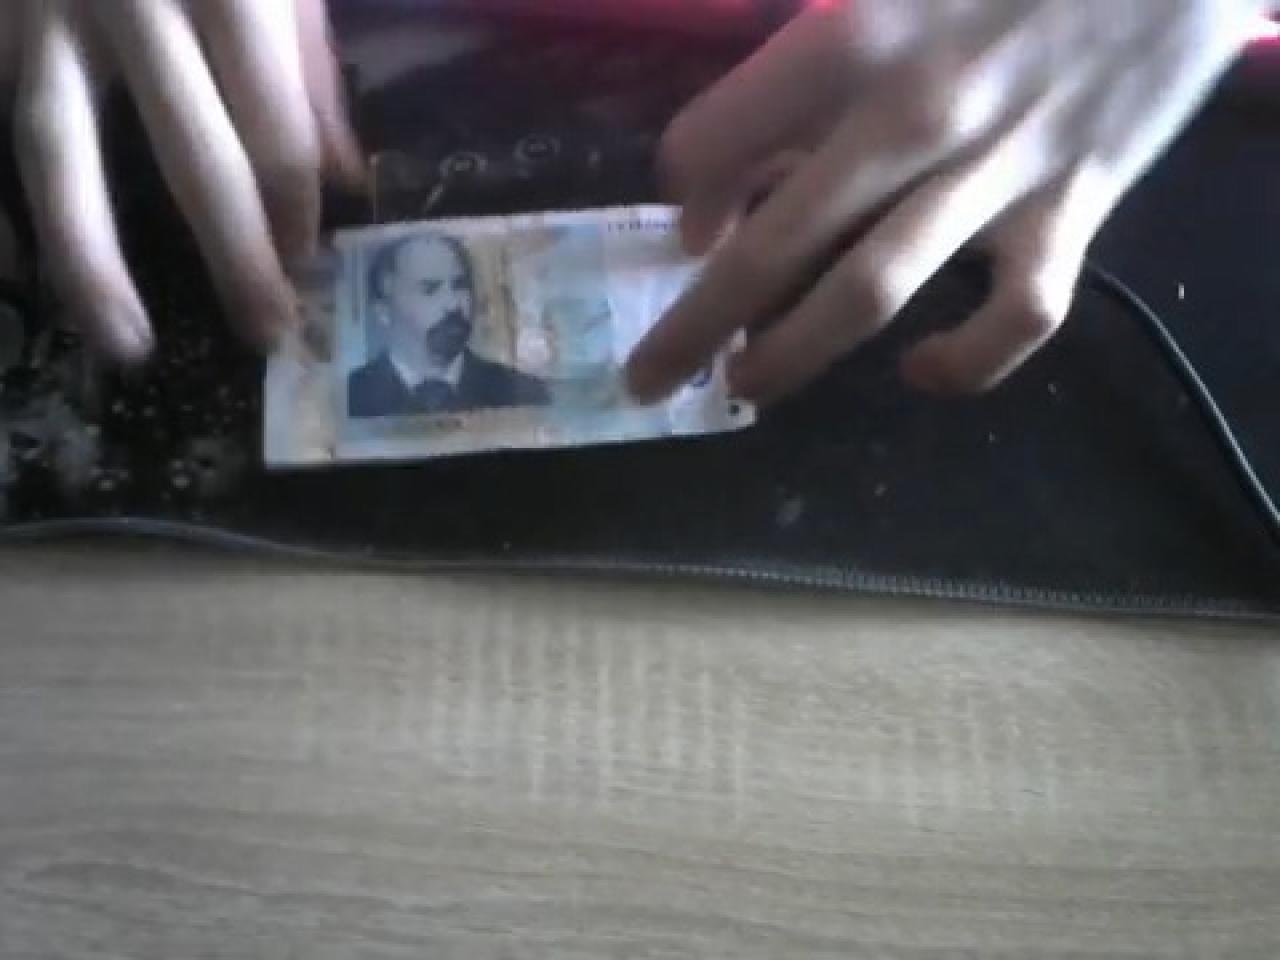20leva: (258, 198, 763, 472)
